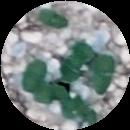Basil: (61, 44, 91, 83), (32, 78, 70, 105), (21, 59, 47, 95), (63, 96, 97, 123), (92, 54, 115, 89), (40, 9, 74, 32)
